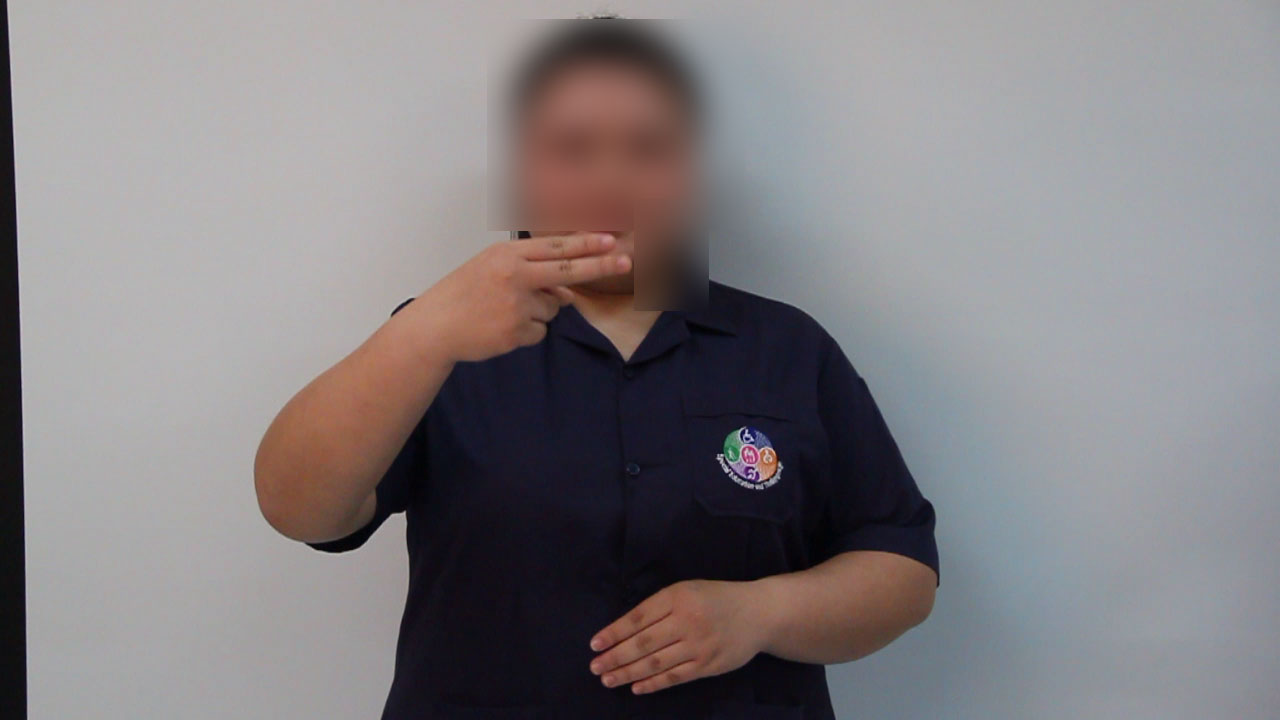hor: (415, 227, 647, 374)
